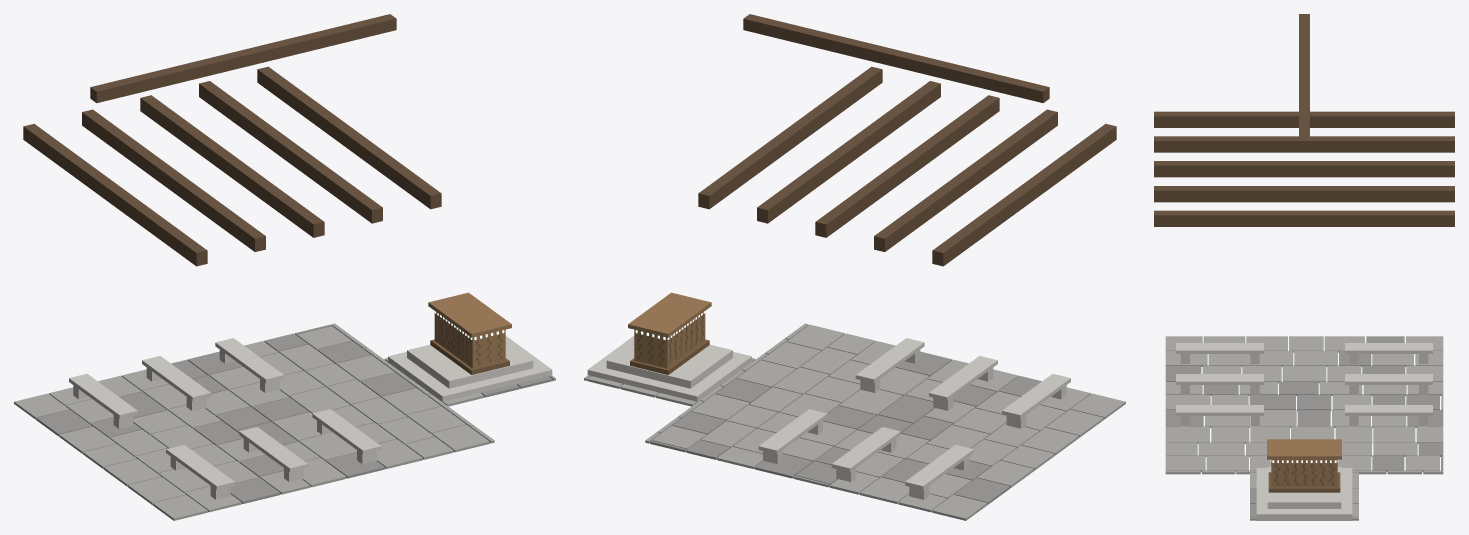
File: SantuarioInterior.glb
The picture shows the model from 3 angles, left to right: view 1: azimuth 30°, elevation 25°; view 2: azimuth 150°, elevation 25°; view 3: azimuth 270°, elevation 25°; orthographic projection. The views are drawn at different scales.
Visible parts, largest first — view 1: SantuarioPiso, SantuarioBancos, SantuarioAltar; view 2: SantuarioPiso, SantuarioBancos, SantuarioAltar; view 3: SantuarioBancos, SantuarioPiso, SantuarioAltar.
Part boxes in pixels (left/top/right/bottom): SantuarioPiso: left=14, top=323, right=555, bottom=520; SantuarioBancos: left=23, top=14, right=441, bottom=499; SantuarioAltar: left=388, top=292, right=552, bottom=402; SantuarioPiso: left=584, top=323, right=1125, bottom=520; SantuarioBancos: left=698, top=14, right=1116, bottom=499; SantuarioAltar: left=587, top=292, right=751, bottom=402; SantuarioBancos: left=1154, top=14, right=1454, bottom=426; SantuarioPiso: left=1165, top=336, right=1443, bottom=520; SantuarioAltar: left=1256, top=439, right=1352, bottom=520.
Bounding box in the file's own units: 11.8 × 9.75 × 8.2.
